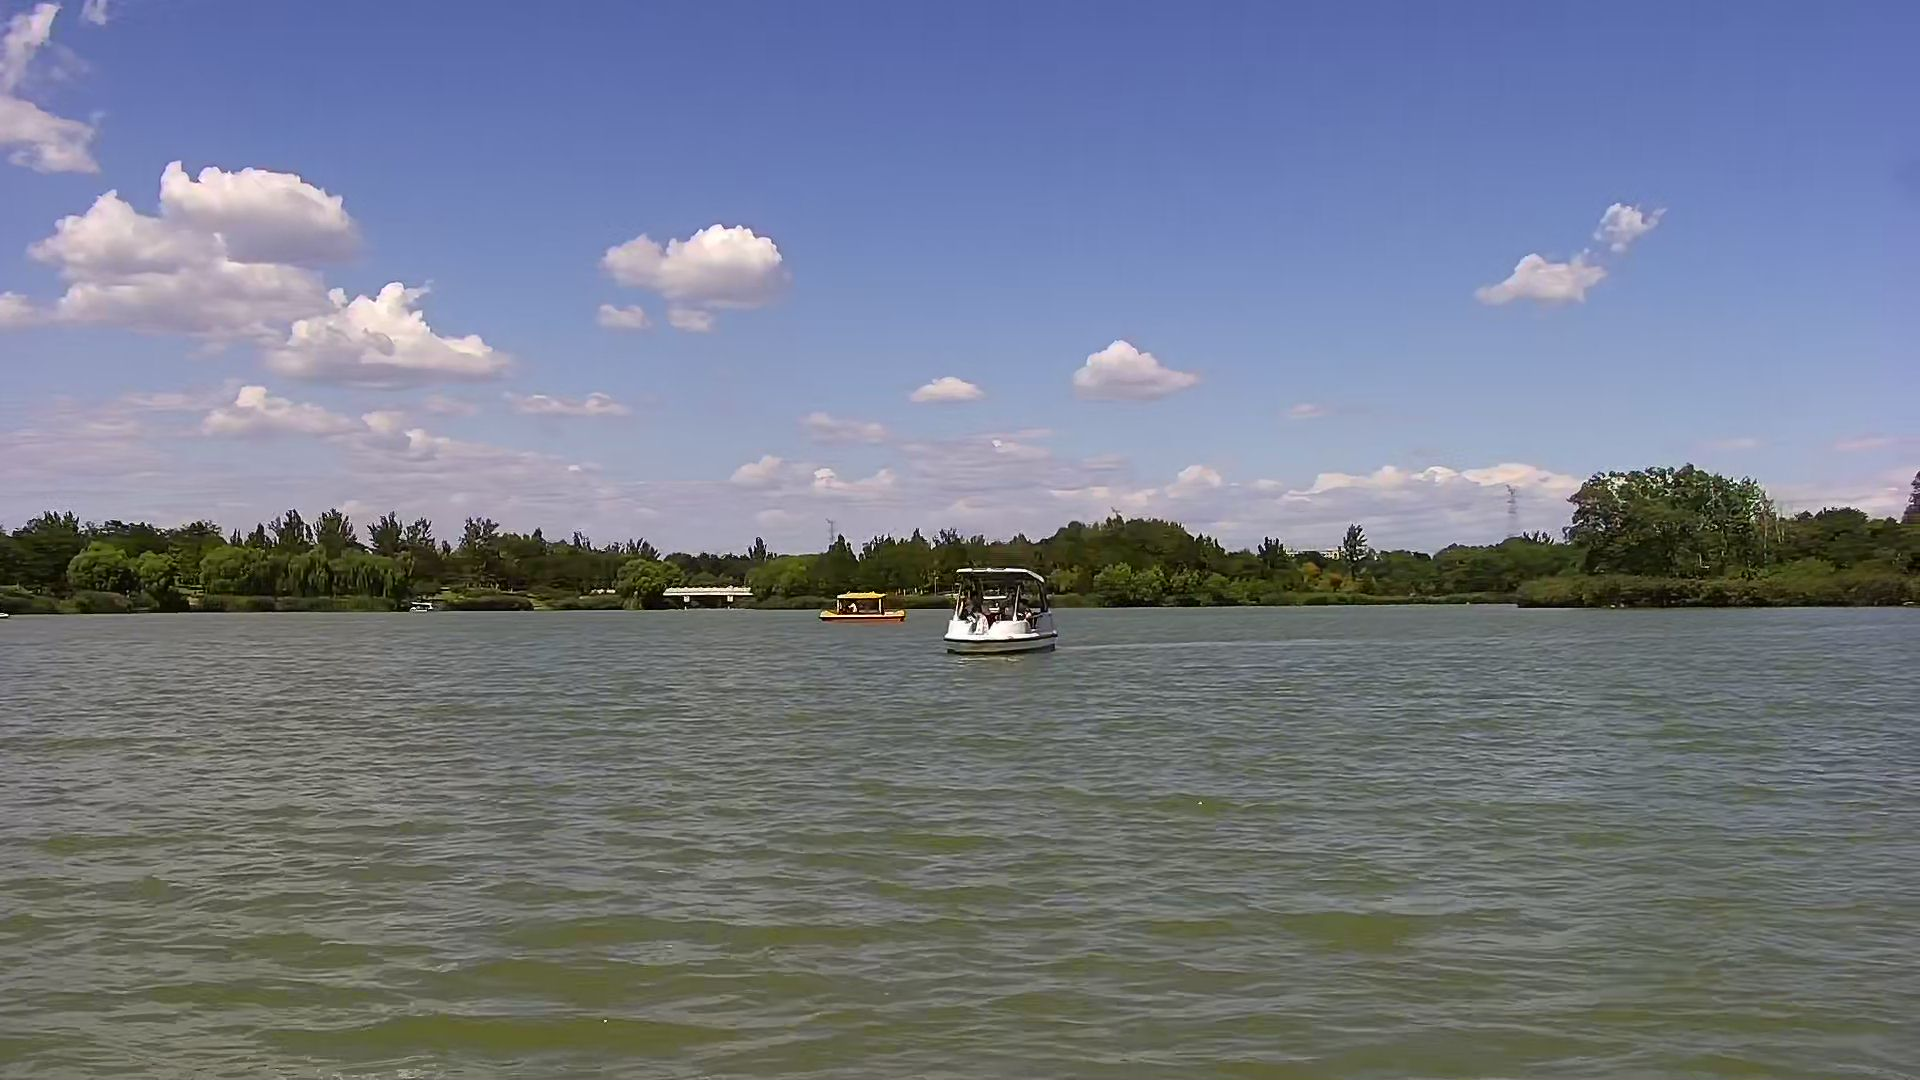boat: (945, 563, 1048, 659), (818, 587, 899, 624)
bridge: (669, 582, 748, 608)
